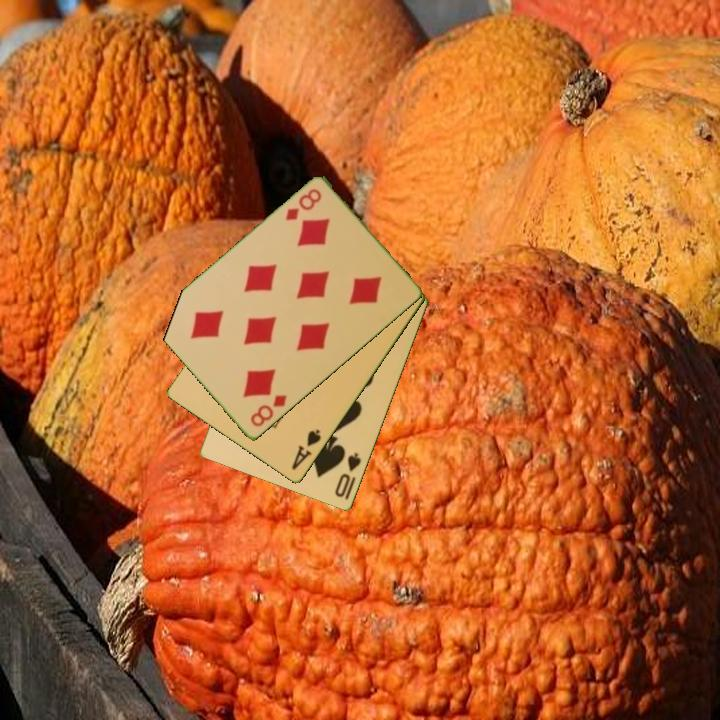10s: (331, 449, 364, 500)
8d: (247, 391, 290, 430), (282, 185, 325, 224)
As: (288, 426, 324, 473)
